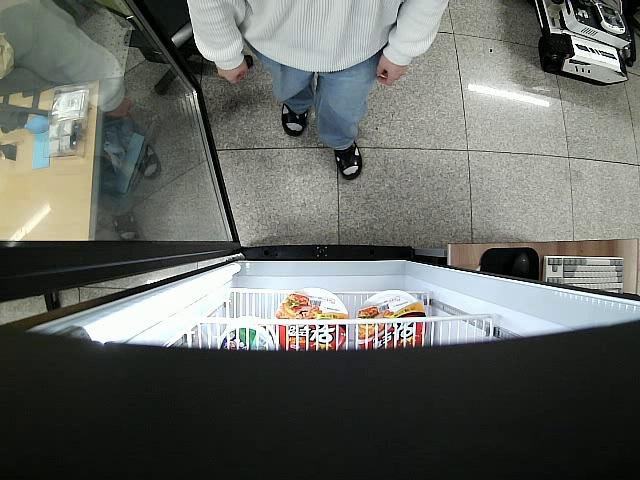00_hand: (375, 51, 410, 88), (213, 59, 249, 86)
